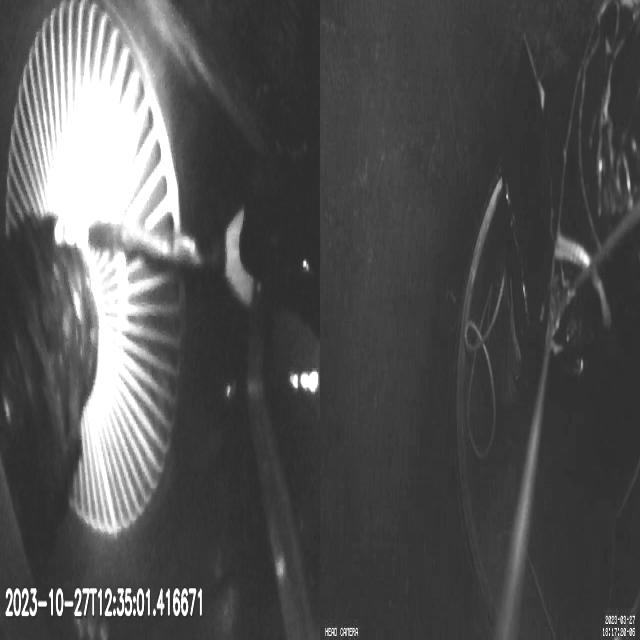head: (226, 210, 268, 303)
